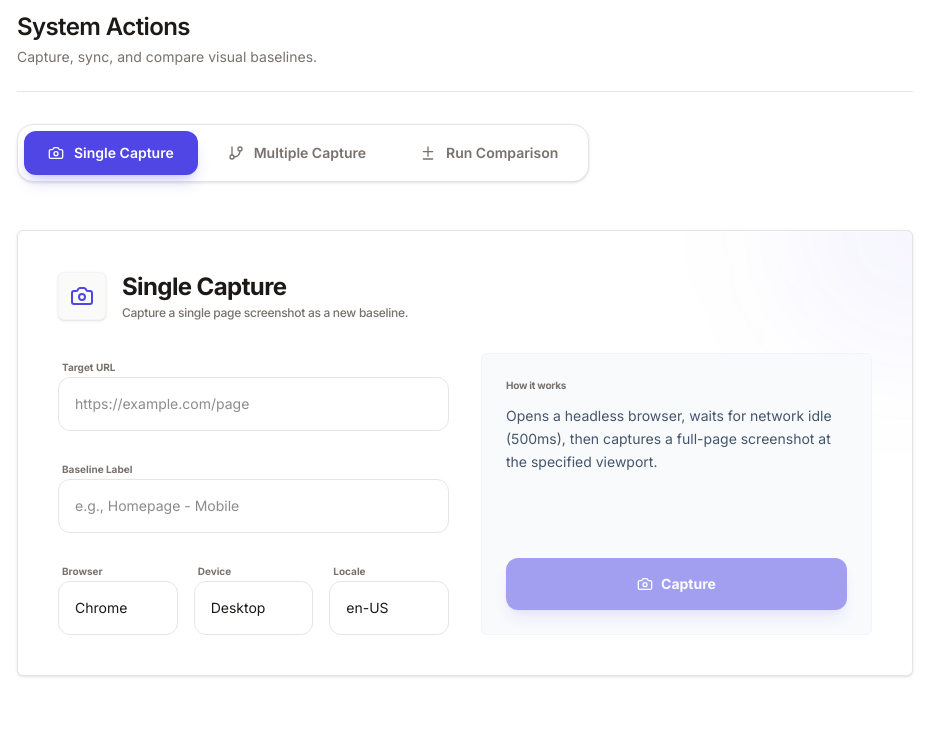
Test: Actions page › switches tabs and shows the matching form + description for each
The image size is (930, 741).
Expected: the tab "Single Capture" is shown, [24, 131, 198, 175]
Click the tab "Multiple Capture": {"x": 297, "y": 153} [204, 131, 390, 175]
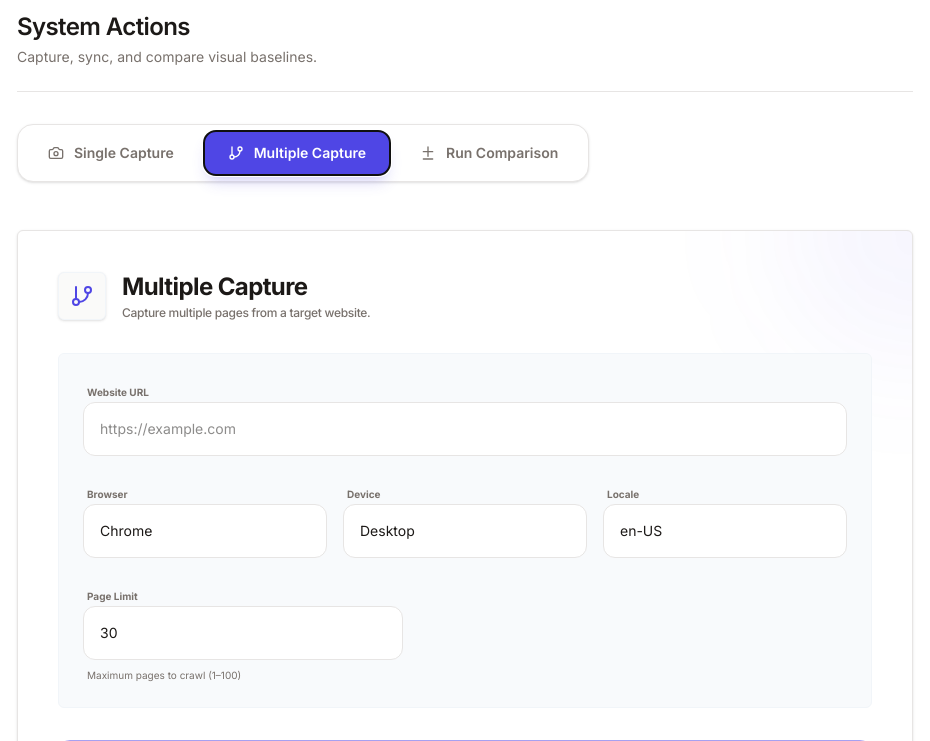
Expected: the text "Capture multiple pages from a target website." is shown, [122, 305, 370, 321]
Click the tab "Run Comparison": {"x": 489, "y": 153} [396, 131, 582, 175]
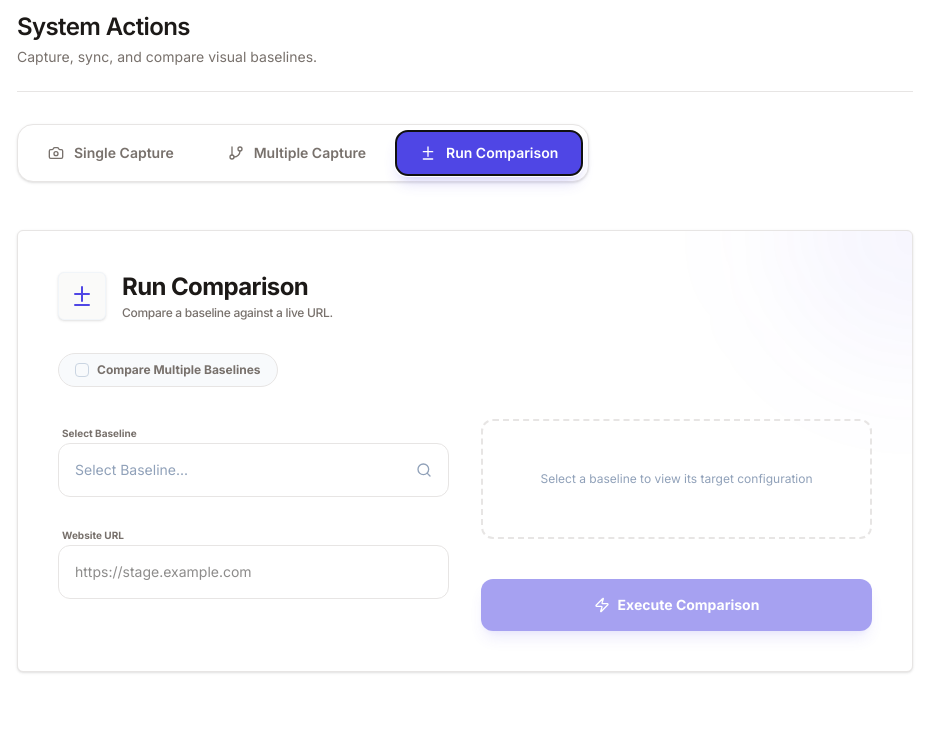
Expected: the text "Compare a baseline against a live URL." is shown, [122, 305, 333, 321]
Click the tab "Single Capture": {"x": 111, "y": 153} [24, 131, 198, 175]
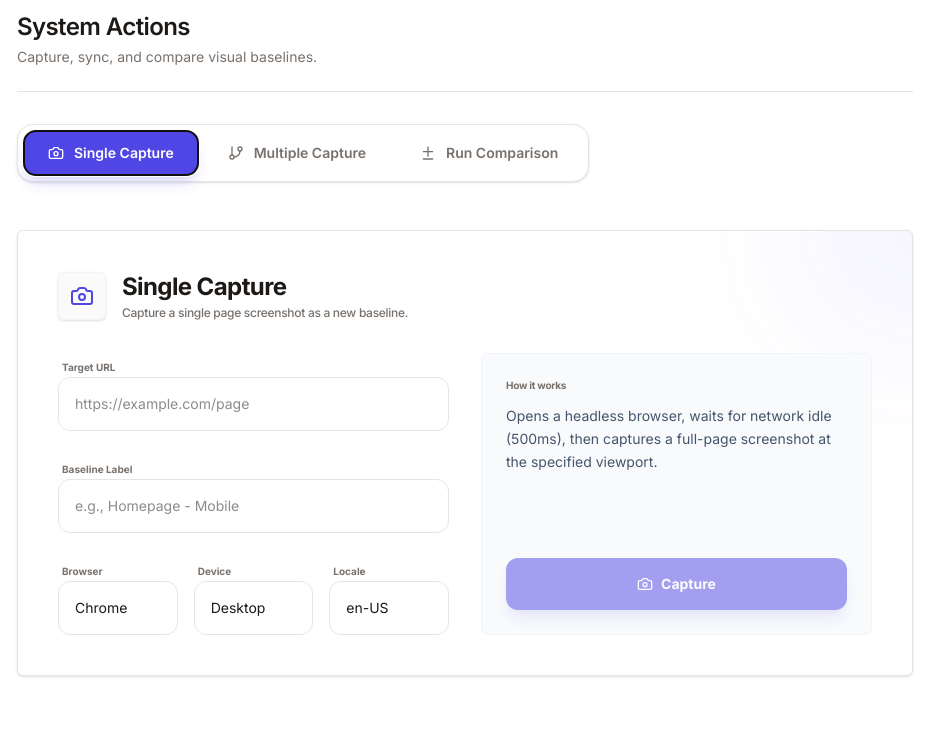
Expected: the text "Capture a single page screenshot as a new baseline." is shown, [122, 305, 408, 321]
